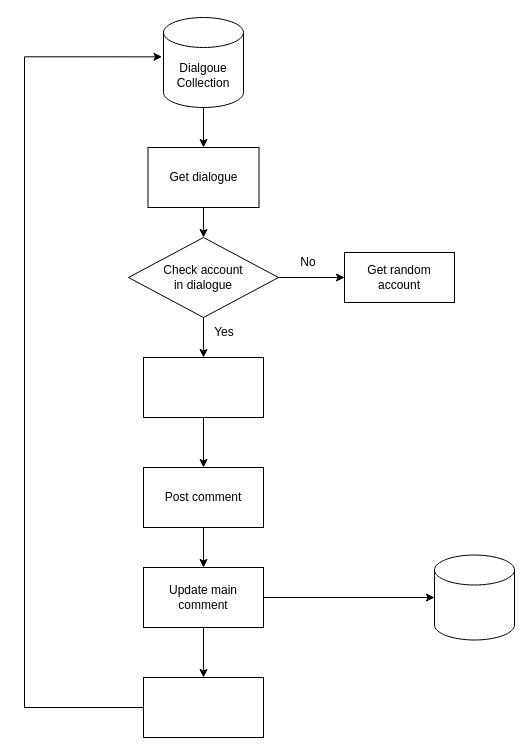
Some shapes in this 532 by 755 pixel diagram are drawn without their labels. The centre of each missing label's shape, as x and y in pixels:
Get account in dialogue: point 203,387
Main comment collection: point 474,597
Update dialogue: point 203,707
